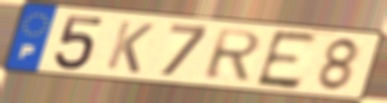5: (50, 13, 107, 72)
7: (157, 22, 213, 80)
8: (316, 36, 363, 93)
E: (253, 28, 322, 92)
K: (102, 18, 157, 75)
R: (202, 27, 265, 82)
